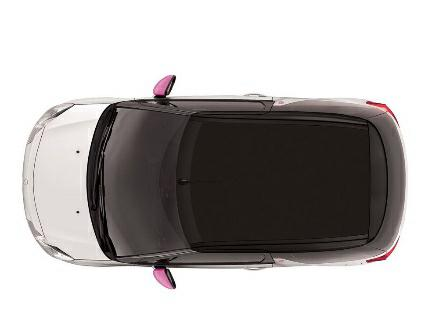大众-桑塔纳: (17, 69, 408, 293)
